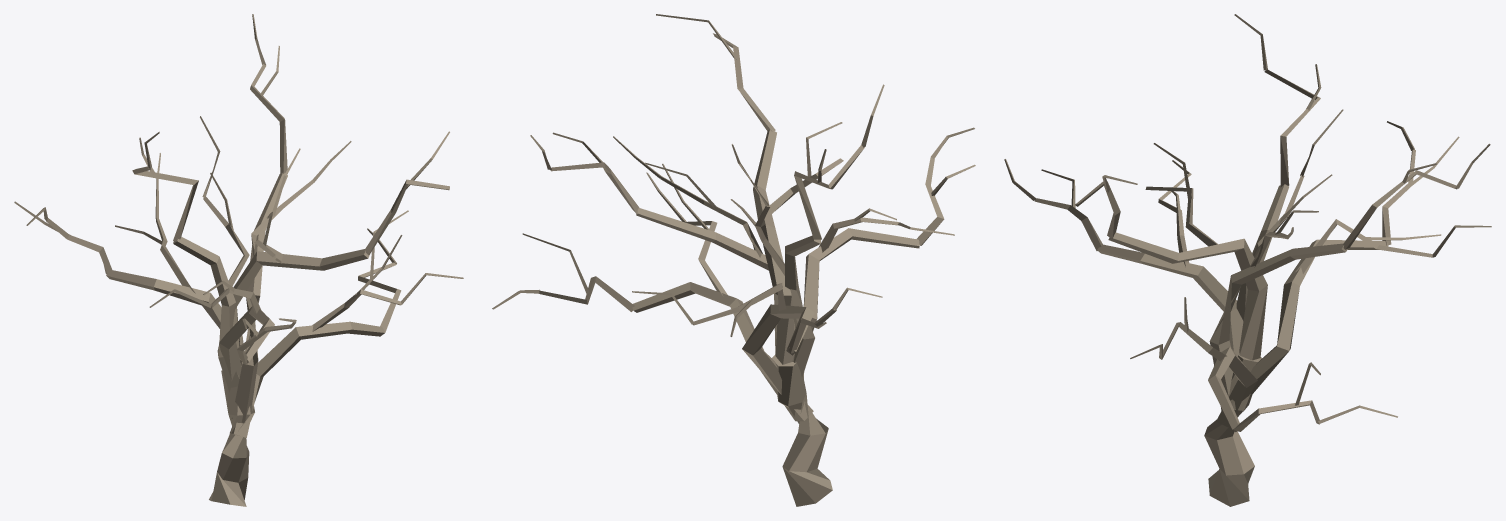
The model's file is tree_hawthorn.glb.
The picture shows the model from 3 angles, left to right: view 1: azimuth 30°, elevation 25°; view 2: azimuth 150°, elevation 25°; view 3: azimuth 270°, elevation 25°; orthographic projection. The views are drawn at different scales.
Parts seen in each view (by area): view 1: tree_hawthorn; view 2: tree_hawthorn; view 3: tree_hawthorn.
Part boxes in pixels (x1,y1,x2,y2): tree_hawthorn: [14, 14, 463, 506]; tree_hawthorn: [492, 14, 975, 506]; tree_hawthorn: [1004, 14, 1491, 506].
Size of the model in its own units: 4.23 by 4.5 by 4.44.
